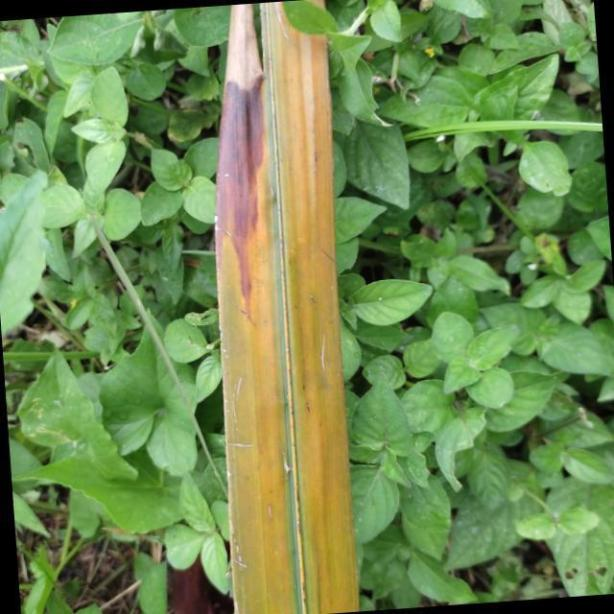Megnesium: (212, 0, 359, 614)
